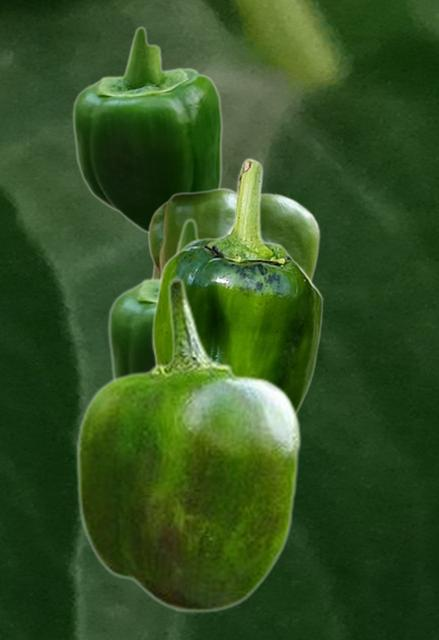bell_pepper: (75, 276, 301, 613), (151, 157, 322, 413), (71, 25, 222, 233), (147, 187, 320, 281), (107, 217, 201, 377)
